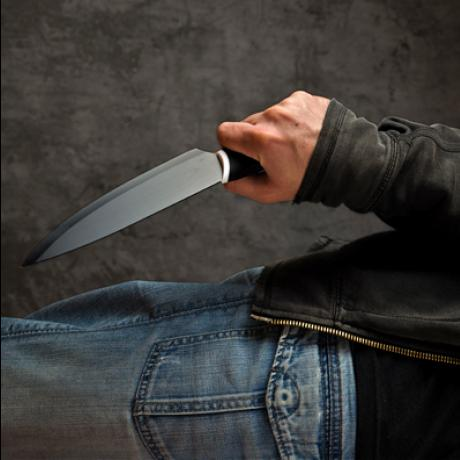1: (0, 86, 460, 460)
weapon: (20, 143, 237, 275)
